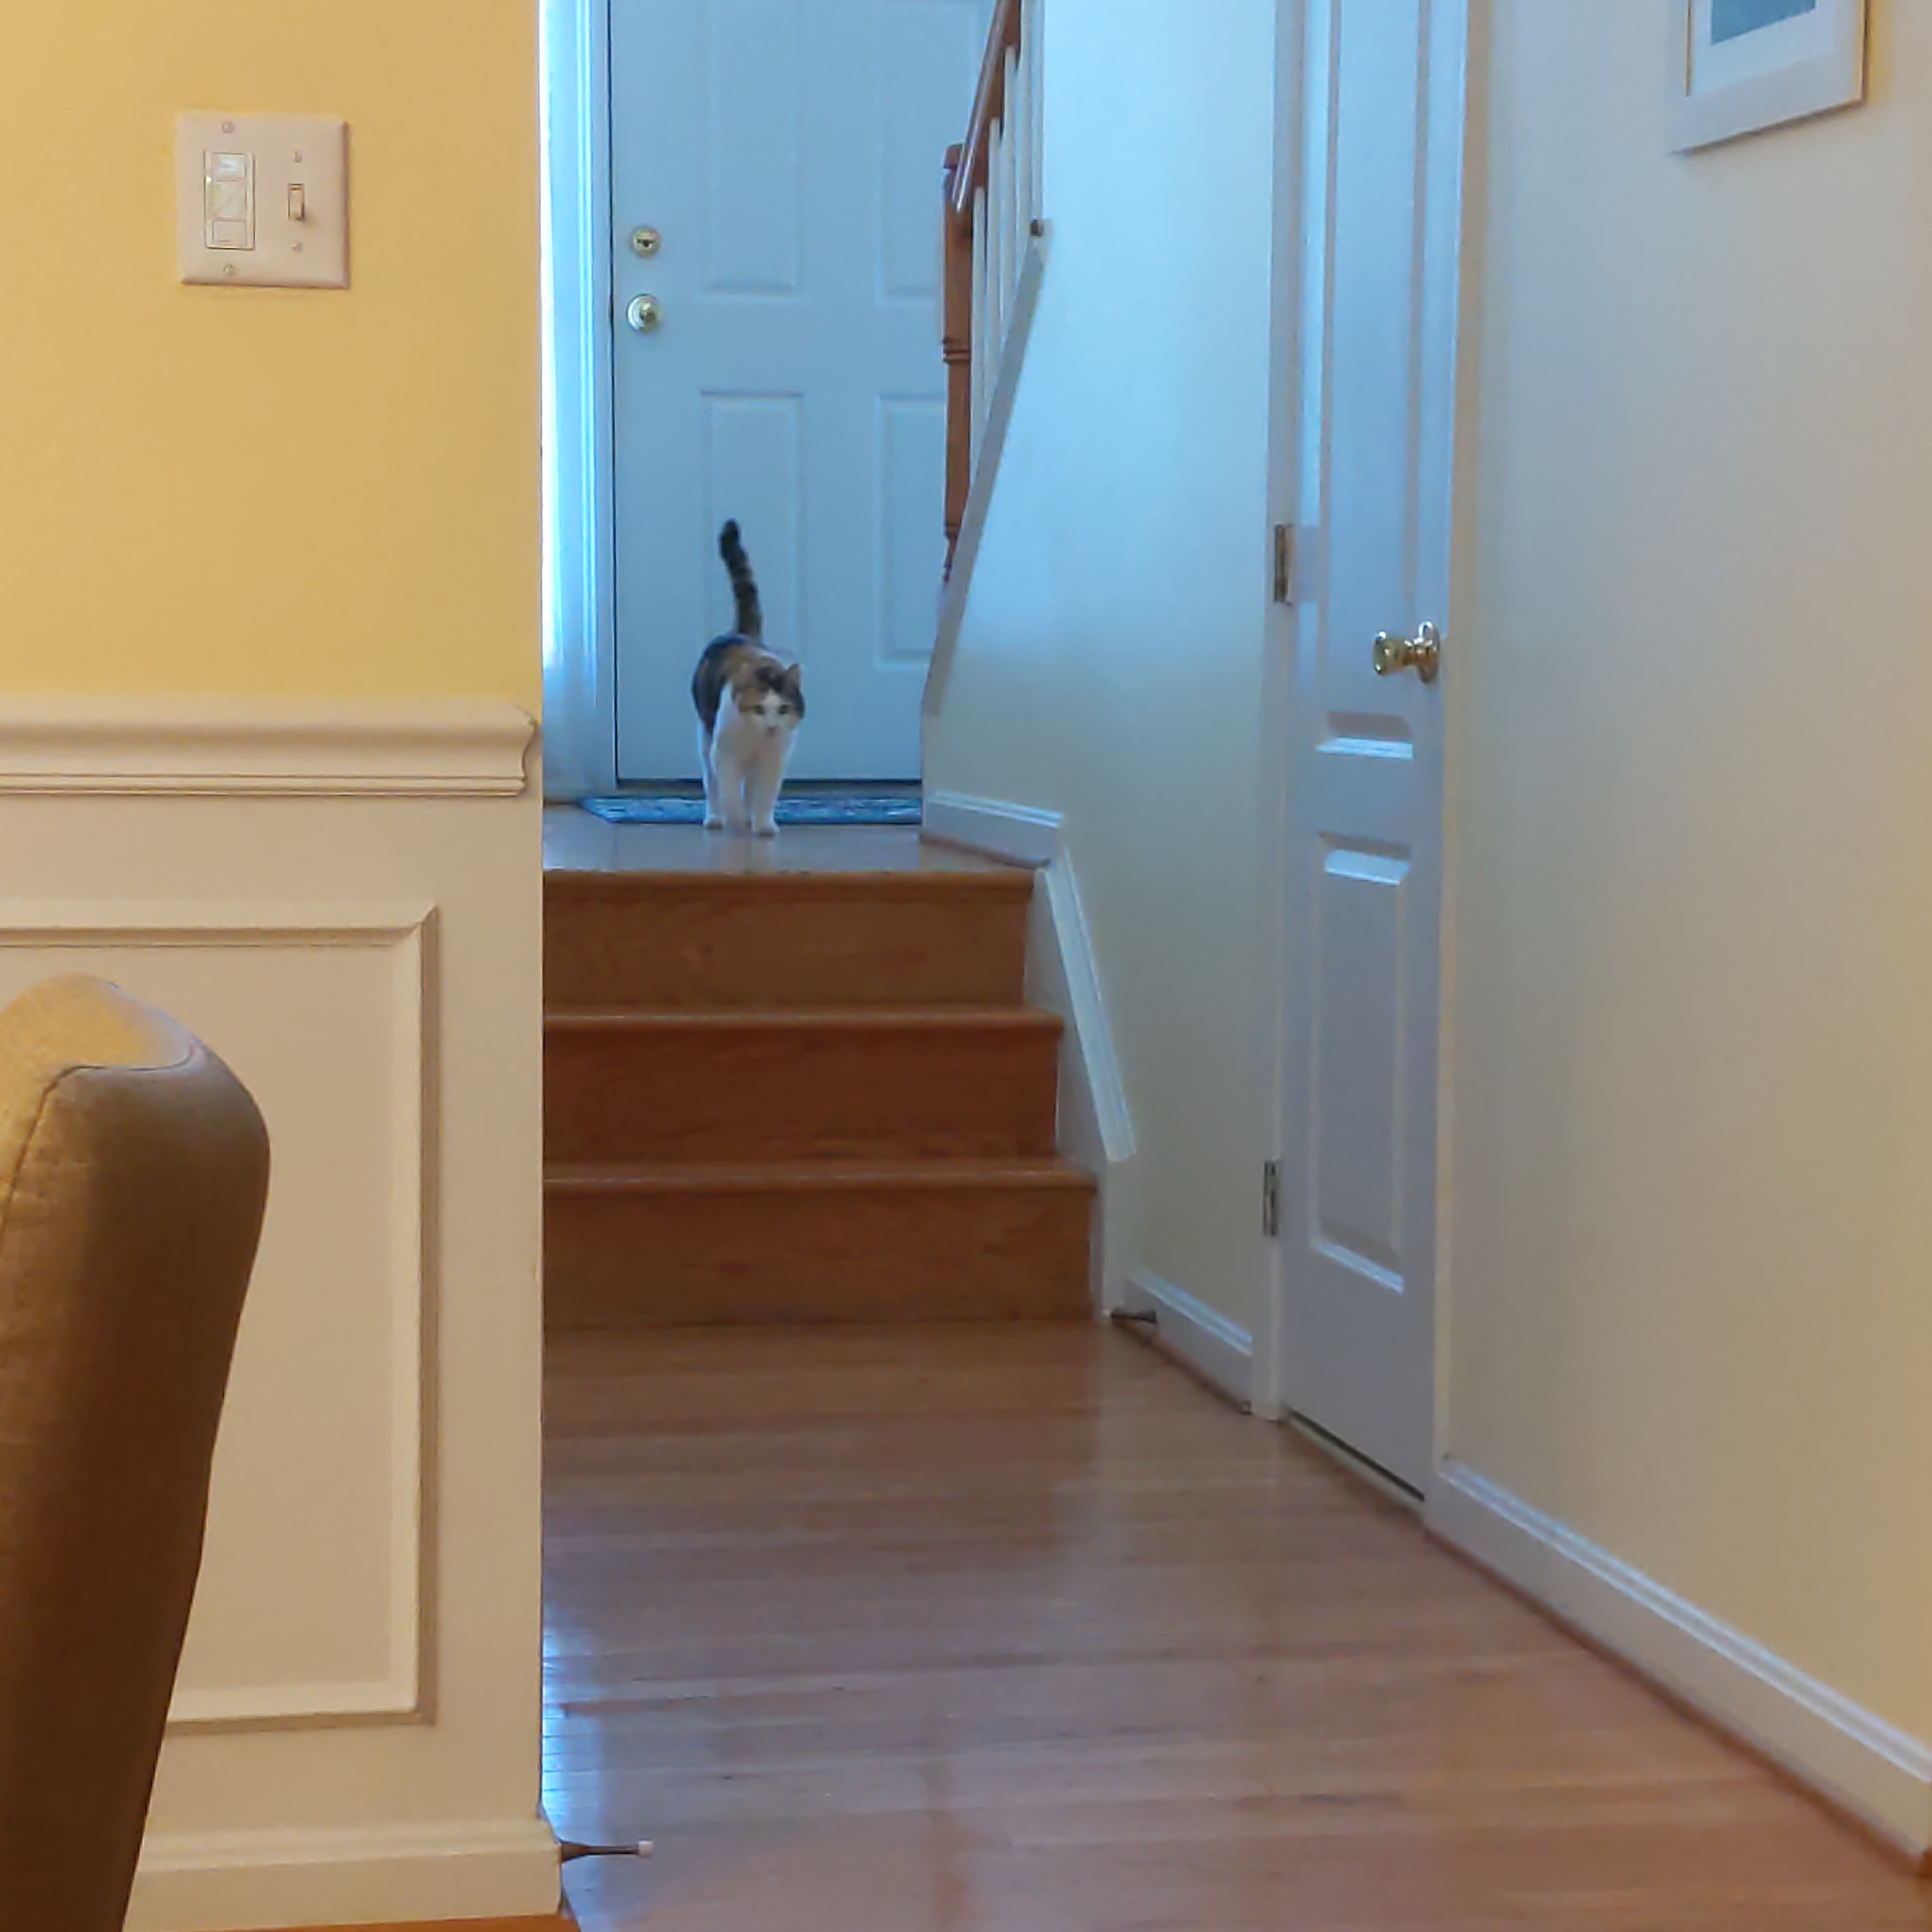Calico: (692, 520, 809, 837)
